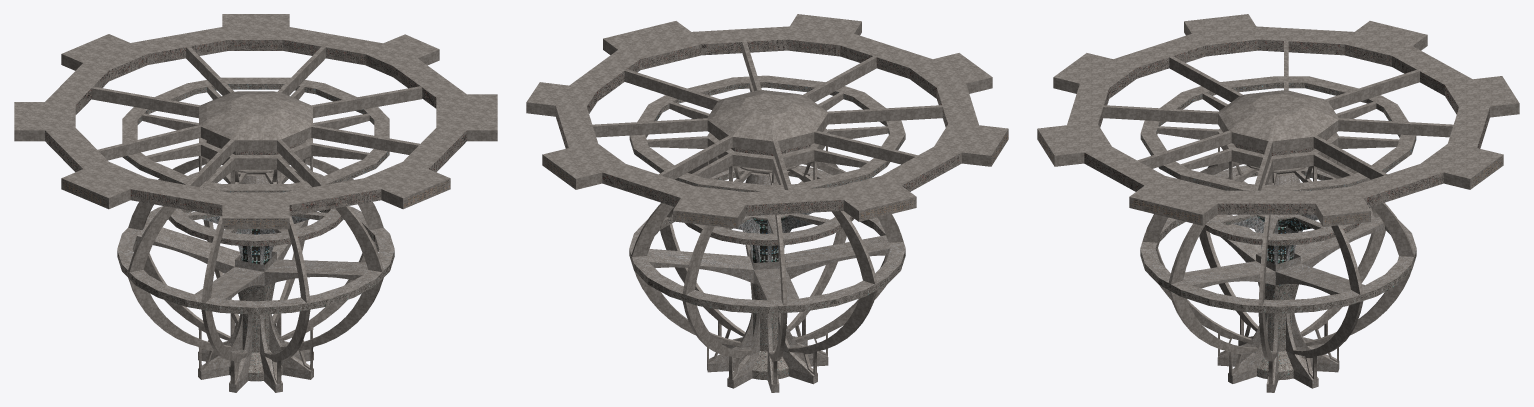
3 renders of one model, left to right at view 1: azimuth 30°, elevation 25°; view 2: azimuth 150°, elevation 25°; view 3: azimuth 270°, elevation 25°, orthographic.
Visible parts, largest first — view 1: Material2, Material2.001, Material3, Material3.001, Material2.002, Material3.003; view 2: Material2, Material2.001, Material3, Material3.001, Material2.002; view 3: Material2, Material2.001, Material3, Material2.002, Material3.001.
Part boxes in pixels (x1,y1,x2,y2): Material2: (14, 14, 497, 392); Material2.001: (14, 14, 497, 383); Material3: (118, 166, 393, 392); Material3.001: (45, 40, 466, 246); Material2.002: (117, 84, 394, 381); Material3.003: (63, 180, 449, 227); Material2: (526, 14, 1008, 392); Material2.001: (526, 14, 1005, 384); Material3: (630, 166, 905, 392); Material3.001: (556, 40, 959, 245); Material2.002: (629, 82, 905, 379); Material2: (1037, 14, 1519, 392); Material2.001: (1037, 15, 1519, 383); Material3: (1141, 165, 1415, 392); Material2.002: (1141, 83, 1416, 378); Material3.001: (1084, 40, 1489, 245).
Size of the model in its own units: 65276 by 39565 by 65807.
